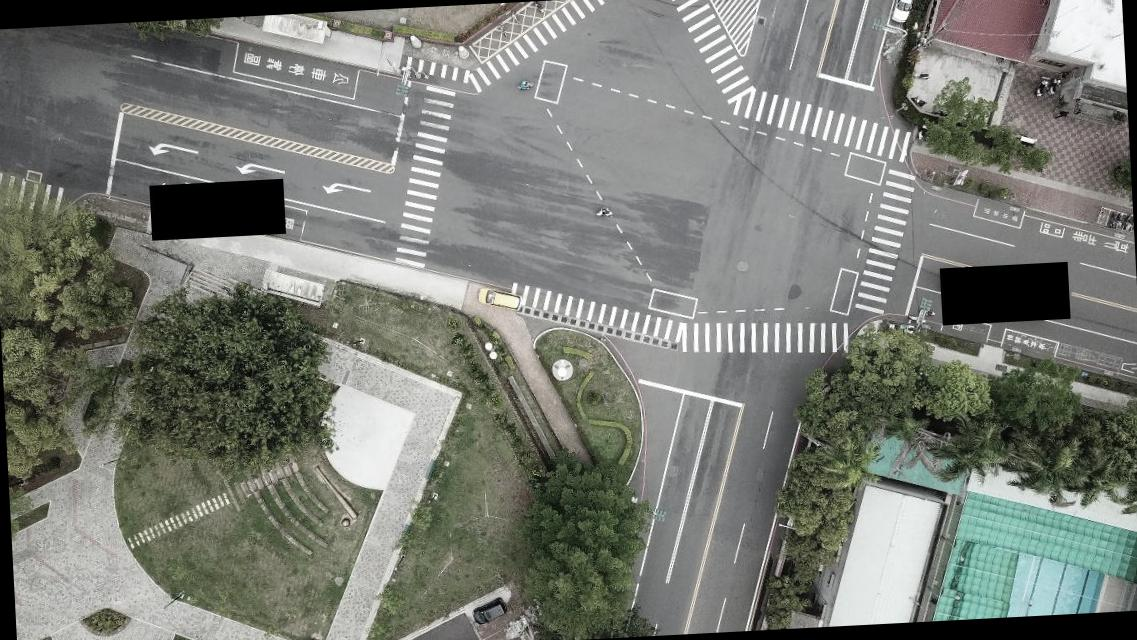vehicle: (476, 284, 522, 314), (470, 598, 506, 626), (889, 0, 920, 24)
